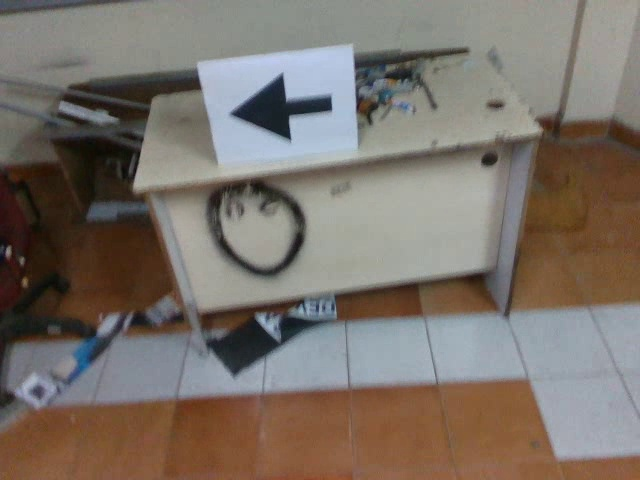Left: (226, 69, 342, 146)
